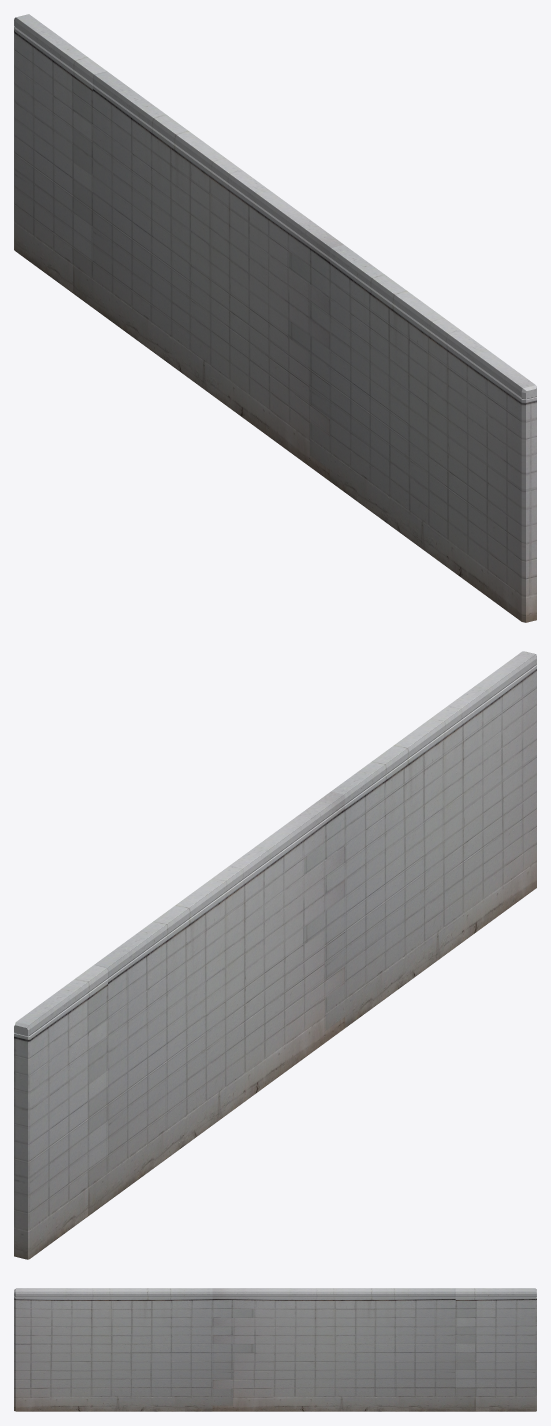
File: hfence02-3_LOD0.fbx
3 views of the same model, one above another, from view 1: azimuth 30°, elevation 25°; view 2: azimuth 150°, elevation 25°; view 3: azimuth 270°, elevation 25° (orthographic). The views are drawn at different scales.
Parts seen in each view (by area): view 1: hfence02-3_LOD0; view 2: hfence02-3_LOD0; view 3: hfence02-3_LOD0.
Part boxes in pixels (left/top/right/bottom): hfence02-3_LOD0: left=14, top=14, right=536, bottom=622; hfence02-3_LOD0: left=14, top=651, right=536, bottom=1259; hfence02-3_LOD0: left=14, top=1288, right=536, bottom=1411.
Size of the model in its own units: 0.0664 by 0.9687 by 3.84.
